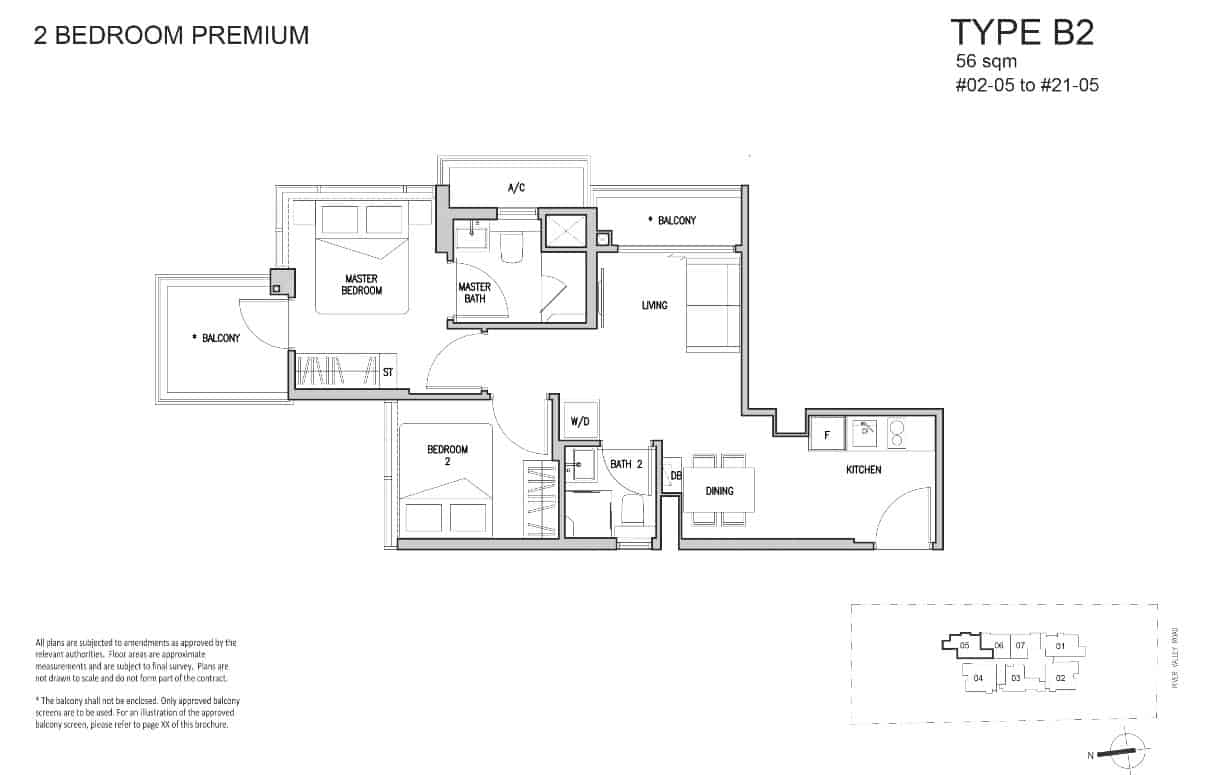balcony: (198, 324, 244, 352), (653, 211, 707, 234)
door: (495, 412, 554, 457), (887, 480, 936, 528), (417, 347, 465, 394), (240, 293, 279, 348), (545, 274, 570, 300)
room: (280, 194, 457, 352), (389, 393, 560, 552), (585, 249, 748, 411), (806, 407, 942, 548), (448, 211, 600, 331), (558, 441, 664, 553)
